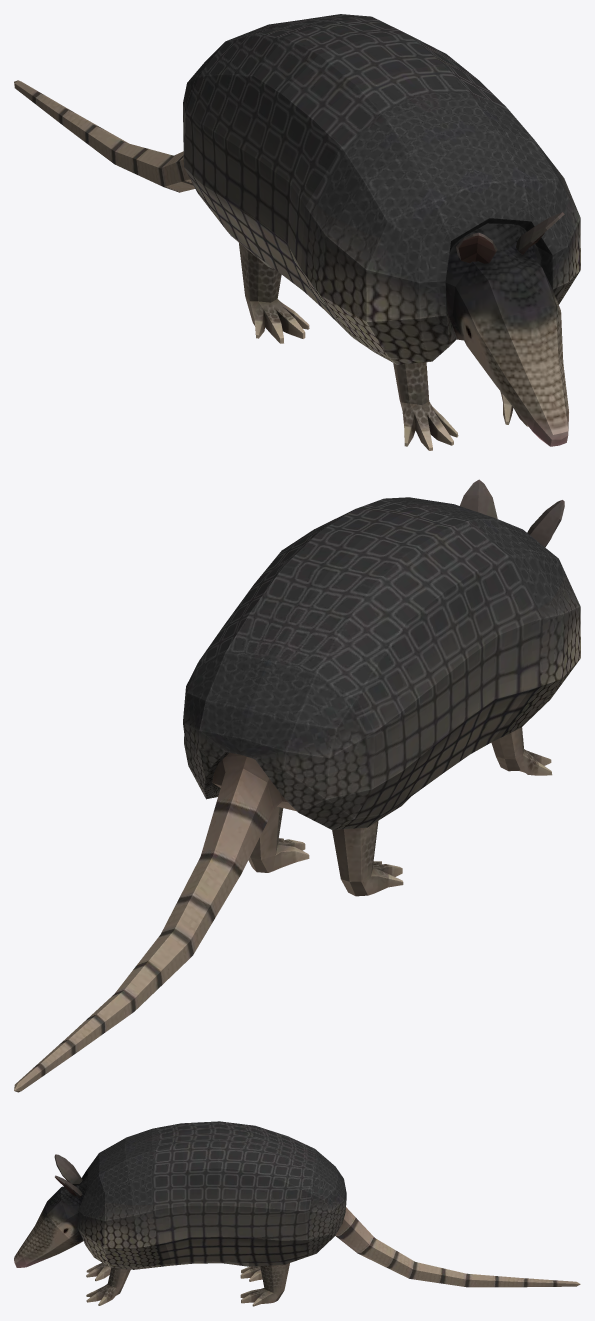
File: dZ3EWgIsSJQ.glb
3 views of the same model, one above another, from view 1: azimuth 30°, elevation 25°; view 2: azimuth 150°, elevation 25°; view 3: azimuth 270°, elevation 25° (orthographic). The views are drawn at different scales.
Parts seen in each view (by area): view 1: Armadillo_Mesh; view 2: Armadillo_Mesh; view 3: Armadillo_Mesh.
Part boxes in pixels (x1=…): Armadillo_Mesh: x1=14, y1=14, x2=580, y2=450; Armadillo_Mesh: x1=14, y1=479, x2=580, y2=1092; Armadillo_Mesh: x1=14, y1=1121, x2=580, y2=1306.
Size of the model in its own units: 0.8304 by 0.9998 by 3.26.
Materials: 1 (1 with a texture image).
